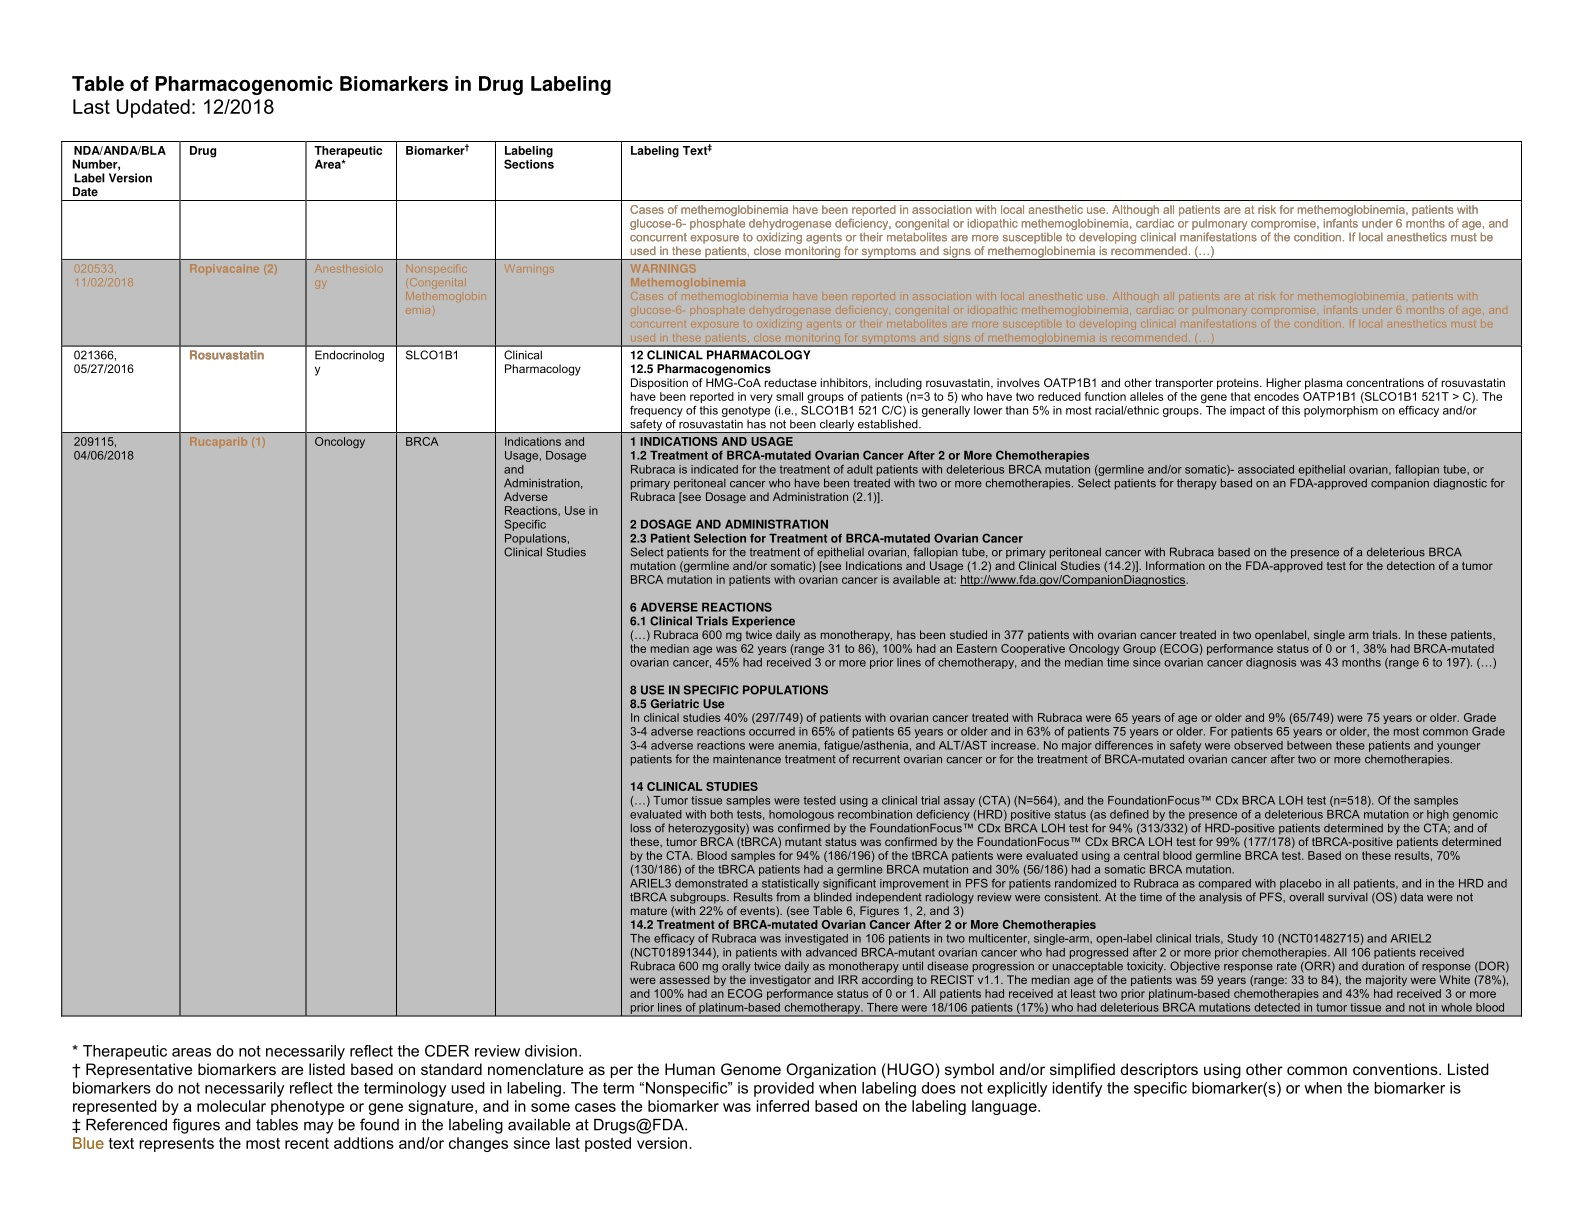full_lined: (60, 140, 1524, 1017)
